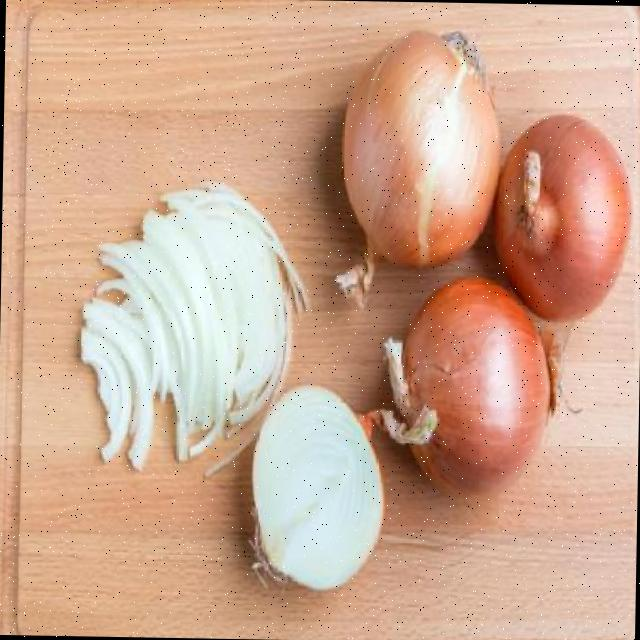Onion: (336, 30, 499, 308), (378, 278, 551, 493), (495, 113, 633, 321)
